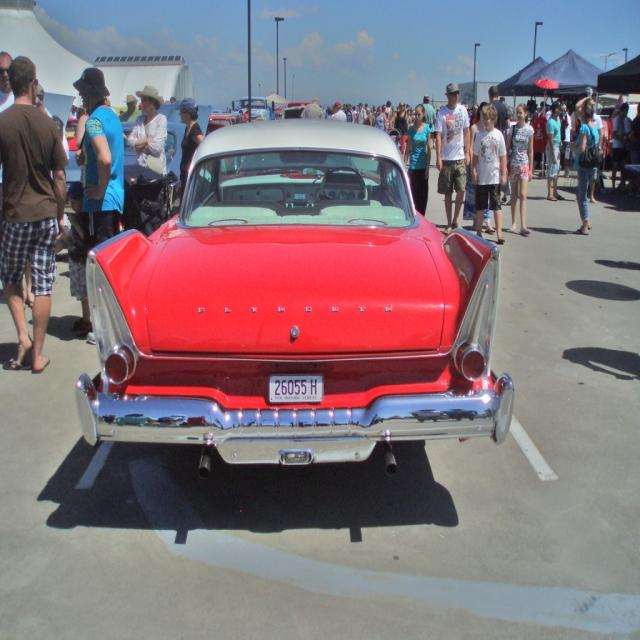car: (73, 119, 516, 472)
